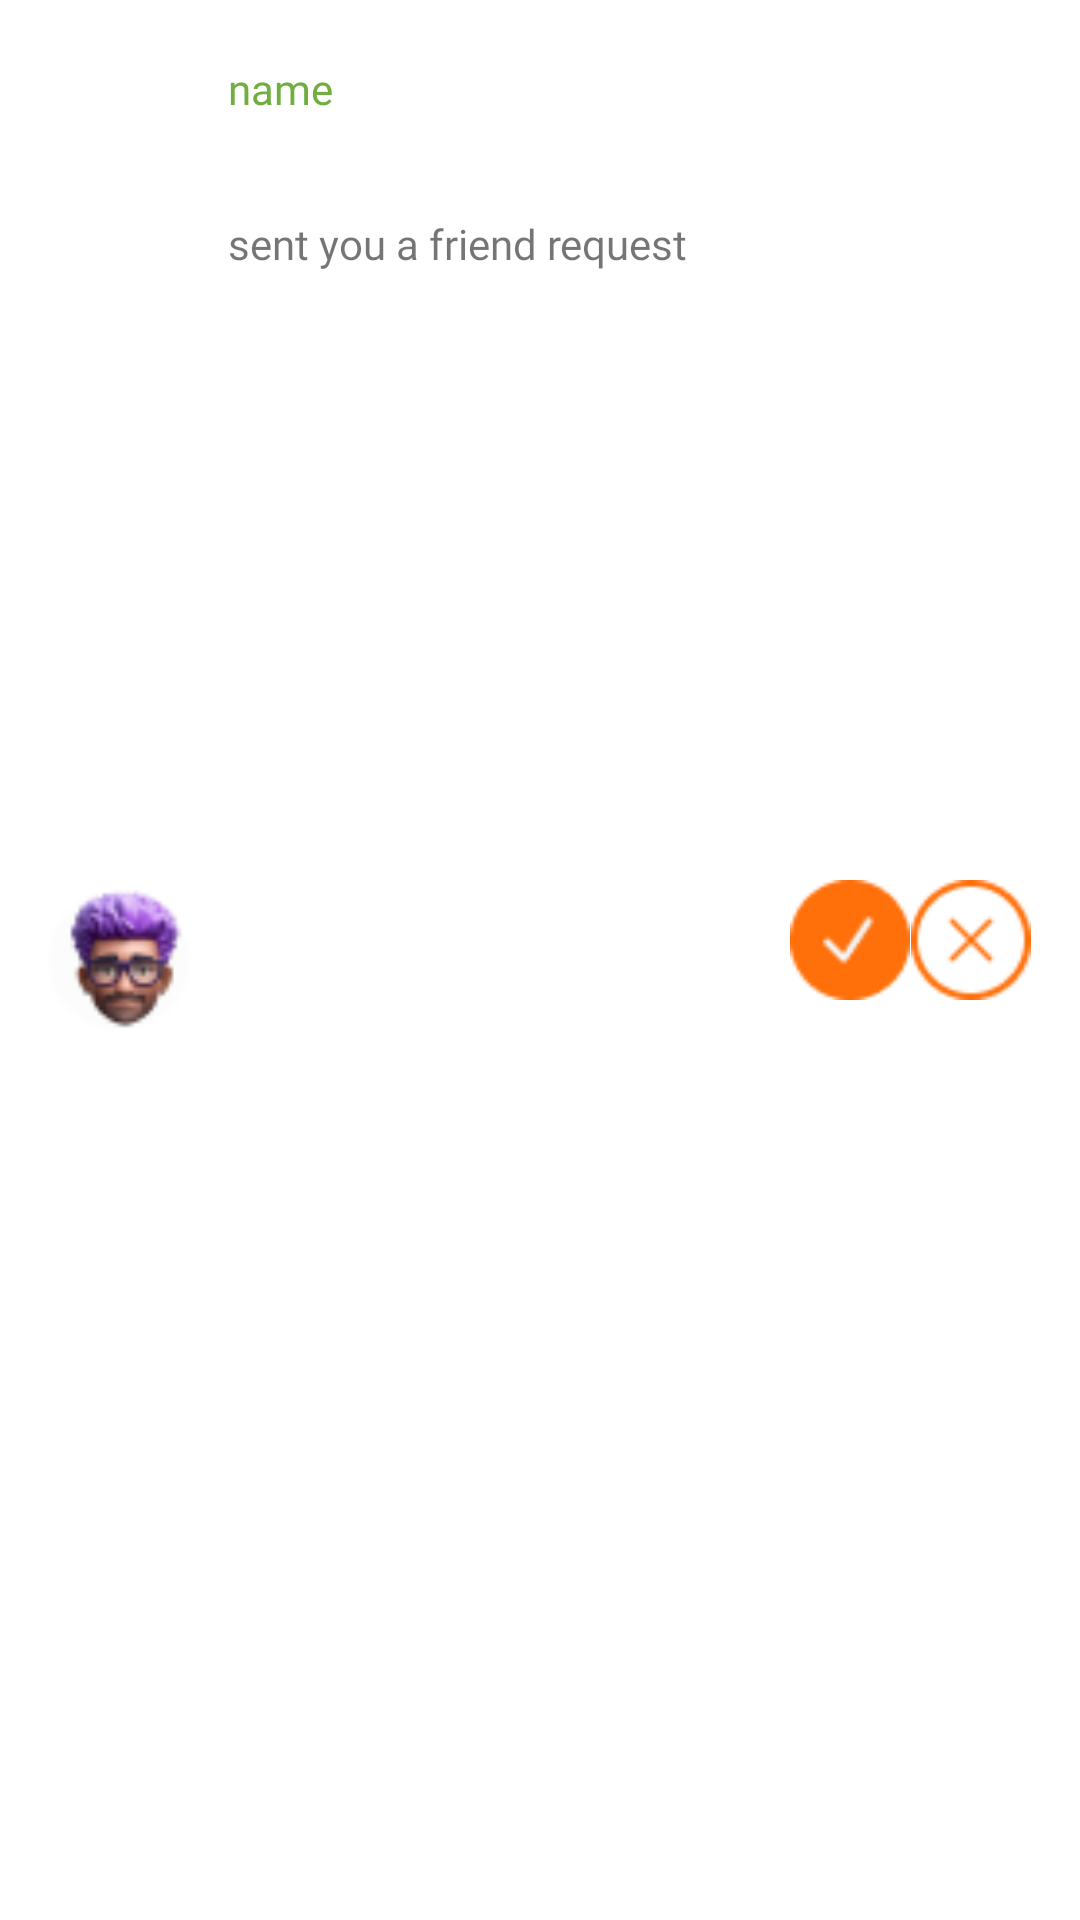

Point at icon controls on the screen. Image size 1080x1920, points as point (x, y).
add to friend: point (850, 940)
decline friend: point (971, 940)
friend avartar: point (125, 959)
